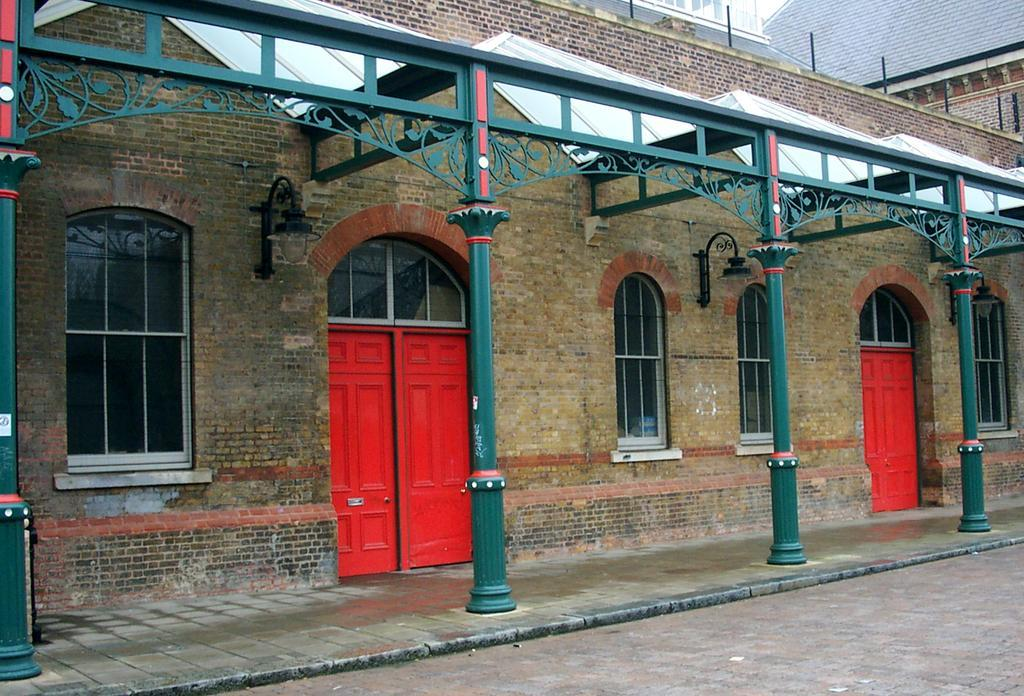door: (324, 336, 392, 566), (406, 343, 480, 550), (861, 359, 913, 506)
